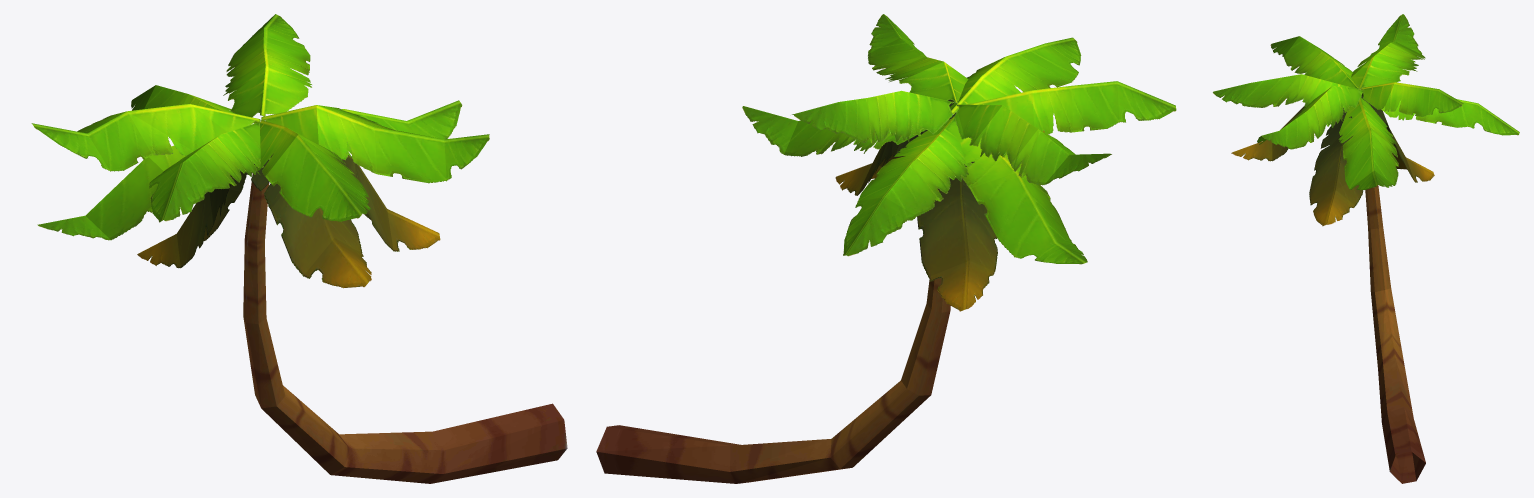
Rendered from shatan_yezishu03.fbx.
The picture shows the model from 3 angles, left to right: view 1: azimuth 30°, elevation 25°; view 2: azimuth 150°, elevation 25°; view 3: azimuth 270°, elevation 25°; orthographic projection. The views are drawn at different scales.
Visible parts, largest first — view 1: shatan_yezishu03; view 2: shatan_yezishu03; view 3: shatan_yezishu03.
Part boxes in pixels (x1,y1,x2,y2): shatan_yezishu03: (31,14,567,483); shatan_yezishu03: (596,14,1176,483); shatan_yezishu03: (1213,14,1519,483).
Bounding box in the file's own units: 4.93 × 4.25 × 3.88.
